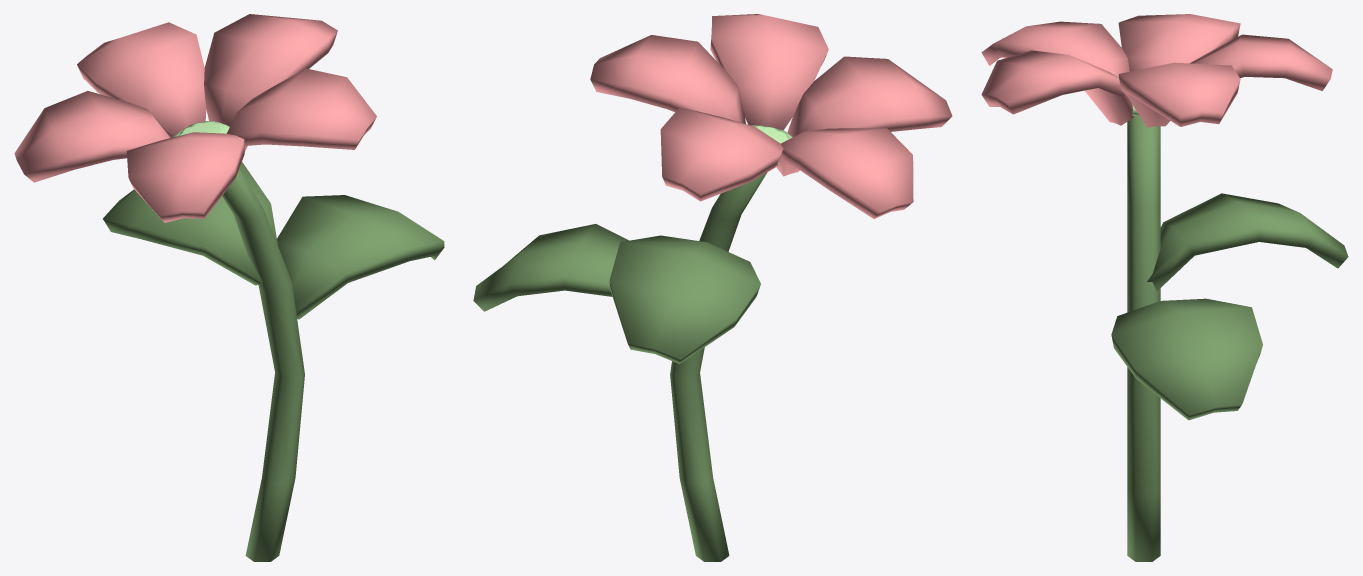
File: fragariaflower_5.fbx
3 renders of one model, left to right at view 1: azimuth 30°, elevation 25°; view 2: azimuth 150°, elevation 25°; view 3: azimuth 270°, elevation 25°, orthographic.
Parts seen in each view (by area): view 1: fragaria flower 5; view 2: fragaria flower 5; view 3: fragaria flower 5.
Part boxes in pixels (<box>): fragaria flower 5: <box>14,14,444,561</box>; fragaria flower 5: <box>473,14,952,561</box>; fragaria flower 5: <box>981,14,1348,561</box>.
Size of the model in its own units: 30.52 by 34.94 by 23.02.
